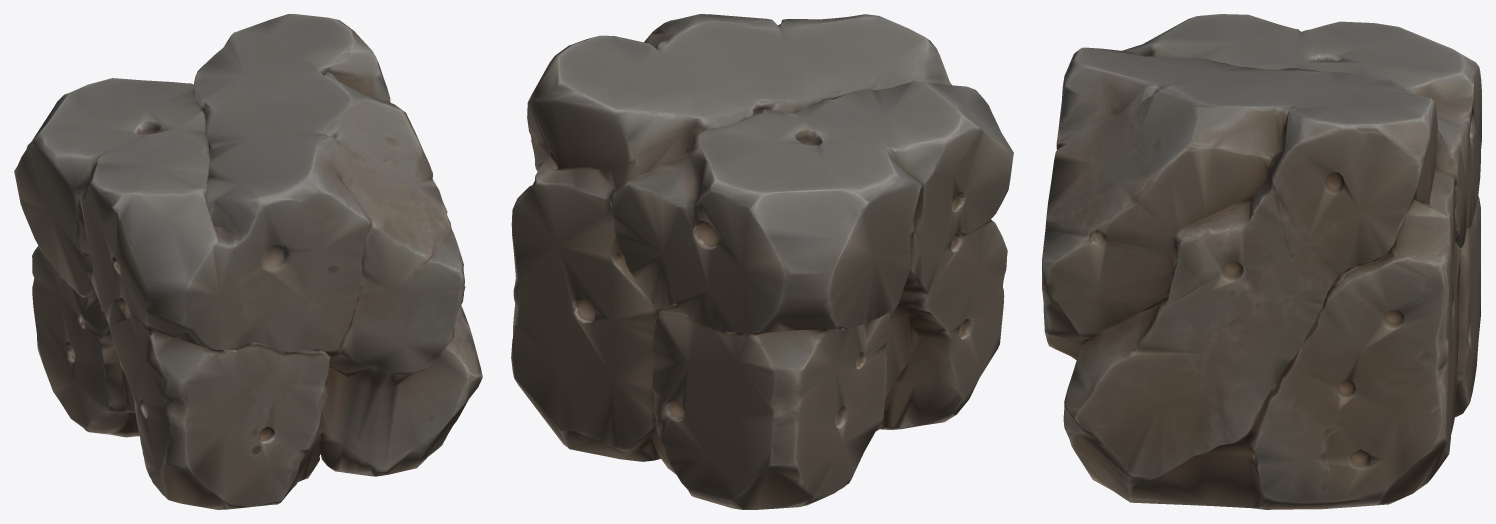
The model's file is original_glb.glb.
The picture shows the model from 3 angles, left to right: view 1: azimuth 30°, elevation 25°; view 2: azimuth 150°, elevation 25°; view 3: azimuth 270°, elevation 25°; orthographic projection. The views are drawn at different scales.
Visible parts, largest first — view 1: rubble-chunk-a; view 2: rubble-chunk-a; view 3: rubble-chunk-a.
Boxes of the visible parts, x1,y1,x2,y2 form: rubble-chunk-a: [14, 14, 482, 509]; rubble-chunk-a: [511, 14, 1013, 509]; rubble-chunk-a: [1042, 14, 1481, 509].
Bounding box in the file's own units: 0.9512 × 0.9512 × 0.998.
1 material, 1 textured.
